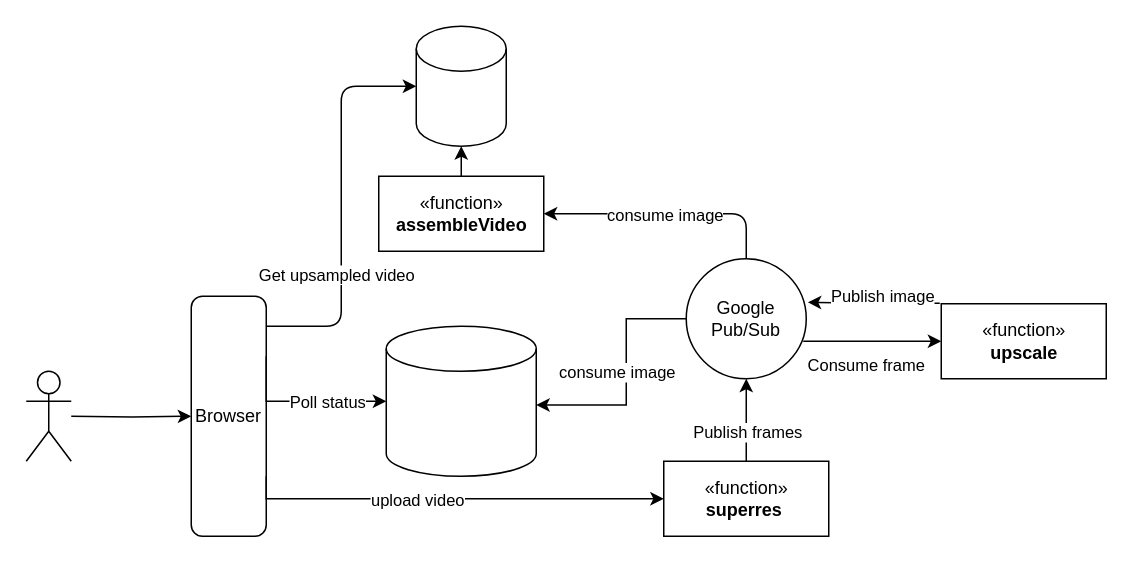
The diagram is 1133 pixels wide and 563 high, and some of its shapes have lost their labels. Here are the shapes that lost their labels. From the top down, the centre of each, then its label:
At [460,85]: "«cloud-storage» video".
At [48,415]: "User".
At [460,400]: "«cloud-storage» process status".
